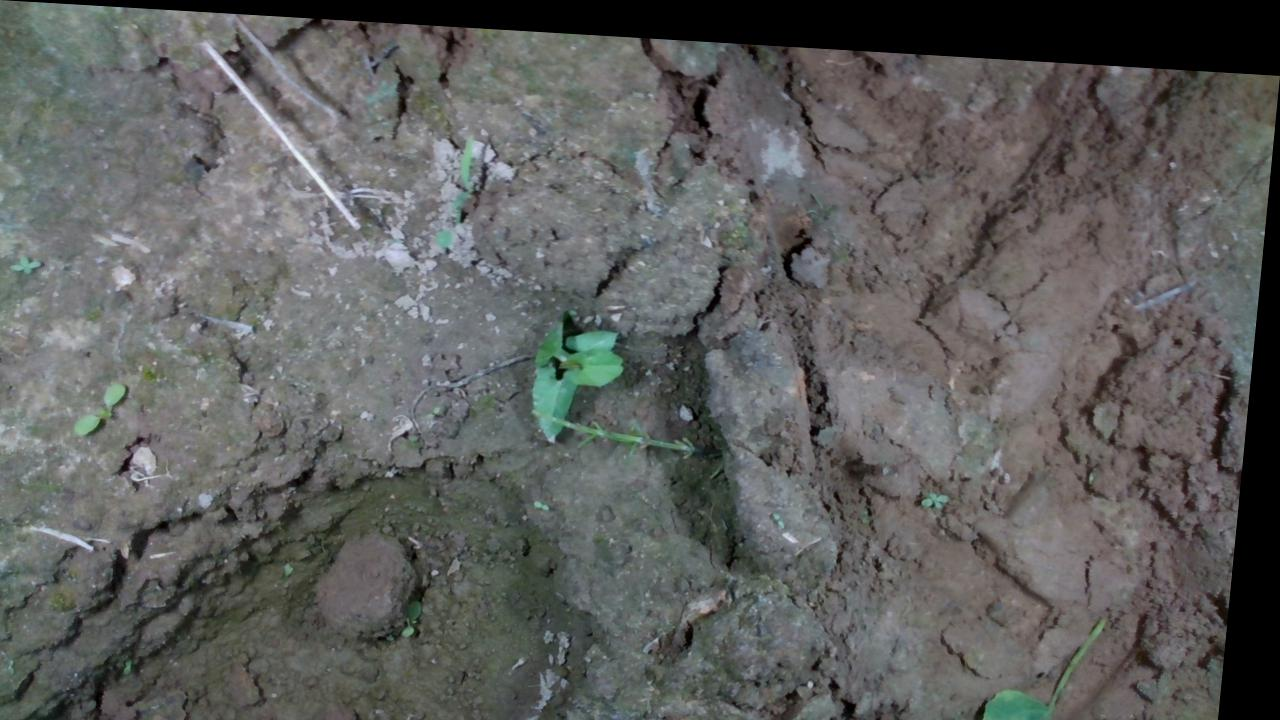weed: (84, 373, 145, 435), (922, 474, 961, 498)
